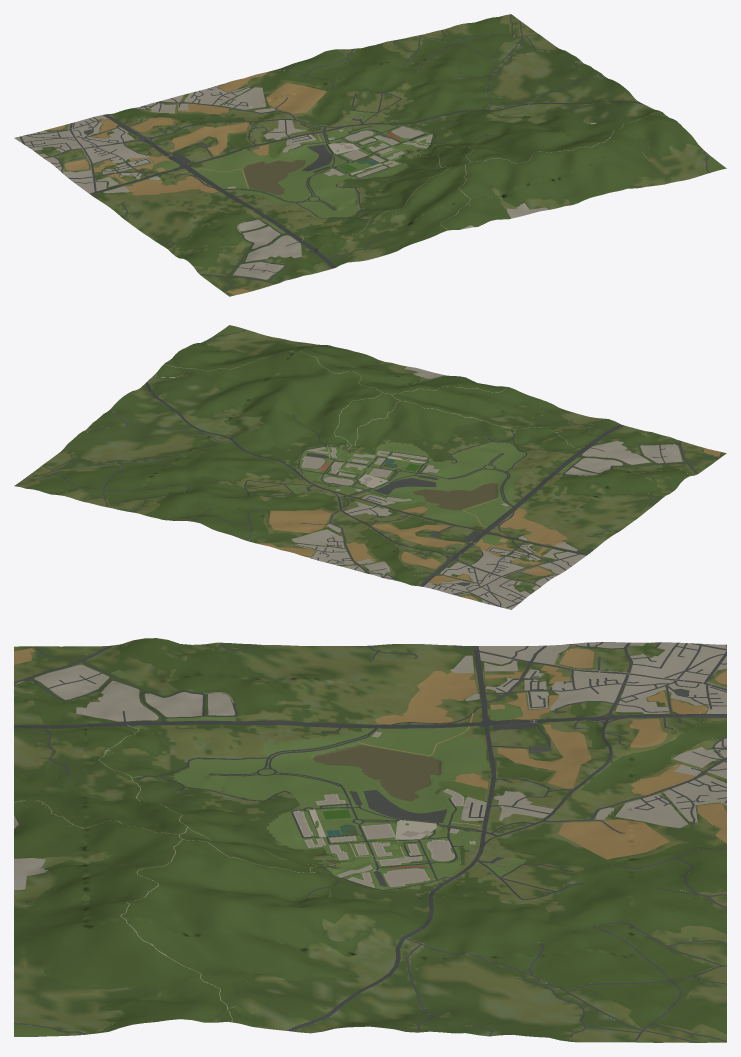
3 renders of one model, top to bottom at view 1: azimuth 30°, elevation 25°; view 2: azimuth 150°, elevation 25°; view 3: azimuth 270°, elevation 25°, orthographic. The views are drawn at different scales.
Visible parts, largest first — view 1: surface_forest, surface_ctxLand, surface_ctxBlock, surface_grass, surface_ctxFarm, surface_asphalt, surface_ctxRoad, surface_waterBed__way/37220749, surface_underfoot, surface_apron, surface_parking; view 2: surface_forest, surface_ctxLand, surface_grass, surface_ctxBlock, surface_ctxFarm, surface_asphalt, surface_ctxRoad, surface_waterBed__way/37220749, surface_underfoot, surface_apron, surface_parking, surface_walk; view 3: surface_ctxLand, surface_forest, surface_ctxBlock, surface_grass, surface_ctxFarm, surface_asphalt, surface_ctxRoad, surface_waterBed__way/37220749, surface_underfoot, surface_parking, surface_apron, surface_orchard (+2 smaller).
Boxes of the visible parts, box(x1,y1,x2,y2) form: surface_forest: box(111, 16, 699, 282); surface_ctxLand: box(34, 14, 726, 296); surface_ctxBlock: box(14, 85, 548, 279); surface_grass: box(154, 111, 432, 233); surface_ctxFarm: box(92, 71, 326, 295); surface_asphalt: box(94, 88, 643, 268); surface_ctxRoad: box(15, 14, 710, 291); surface_waterBed__way/37220749: box(243, 159, 305, 194); surface_underfoot: box(229, 127, 431, 188); surface_apron: box(228, 126, 432, 188); surface_parking: box(172, 118, 426, 173); surface_forest: box(23, 342, 689, 585); surface_ctxLand: box(14, 325, 726, 602); surface_grass: box(286, 441, 581, 544); surface_ctxBlock: box(292, 366, 682, 609); surface_ctxFarm: box(256, 448, 720, 583); surface_asphalt: box(145, 382, 626, 586); surface_ctxRoad: box(14, 329, 720, 609); surface_waterBed__way/37220749: box(412, 482, 497, 510); surface_underfoot: box(302, 447, 507, 505); surface_apron: box(301, 447, 508, 506); surface_parking: box(305, 453, 480, 541); surface_walk: box(164, 351, 514, 474); surface_ctxLand: box(14, 640, 726, 1042); surface_forest: box(14, 638, 726, 1034); surface_ctxBlock: box(14, 642, 726, 890); surface_grass: box(166, 704, 526, 889); surface_ctxFarm: box(14, 648, 726, 859); surface_asphalt: box(14, 649, 726, 1031); surface_ctxRoad: box(14, 642, 726, 1042); surface_waterBed__way/37220749: box(313, 744, 441, 801); surface_underfoot: box(294, 732, 474, 886); surface_parking: box(350, 723, 535, 886); surface_apron: box(293, 731, 475, 887); surface_orchard: box(14, 781, 487, 1036).
Size of the model in its own units: 2560 by 149 by 1920.
26 materials, 26 textured.
